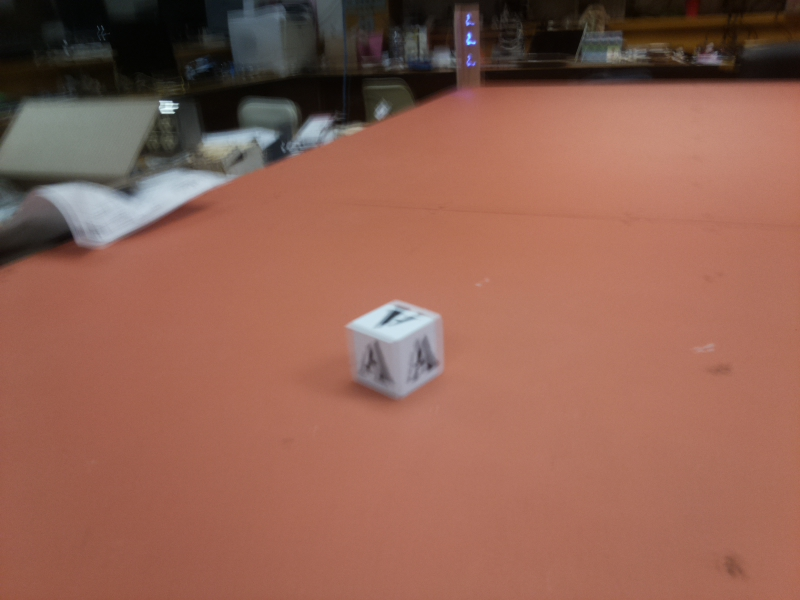blockA: (343, 299, 444, 402)
corner: (451, 8, 484, 88)
